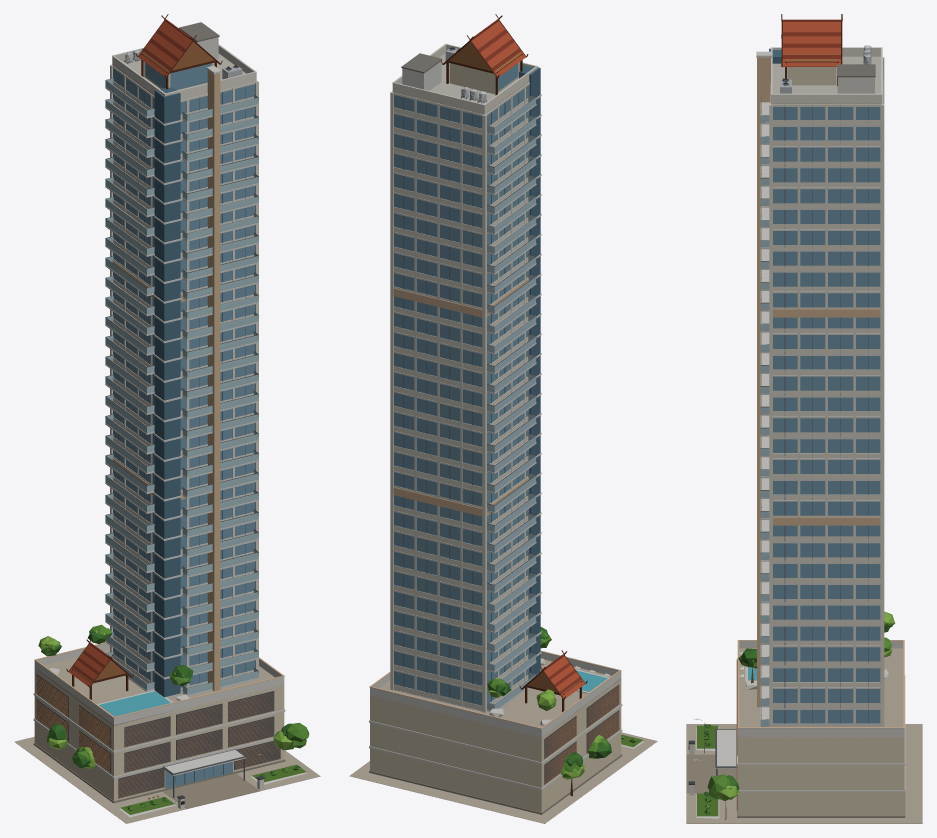
The model's file is home_5.glb.
3 renders of one model, left to right at view 1: azimuth 30°, elevation 25°; view 2: azimuth 150°, elevation 25°; view 3: azimuth 270°, elevation 25°, orthographic. The views are drawn at different scales.
Parts seen in each view (by area): view 1: body; view 2: body; view 3: body.
Part boxes in pixels (left/top/right/bottom): body: left=14, top=14, right=320, bottom=823; body: left=349, top=14, right=657, bottom=823; body: left=686, top=14, right=922, bottom=823.
Bounding box in the file's own units: 33.07 × 114 × 31.9.
